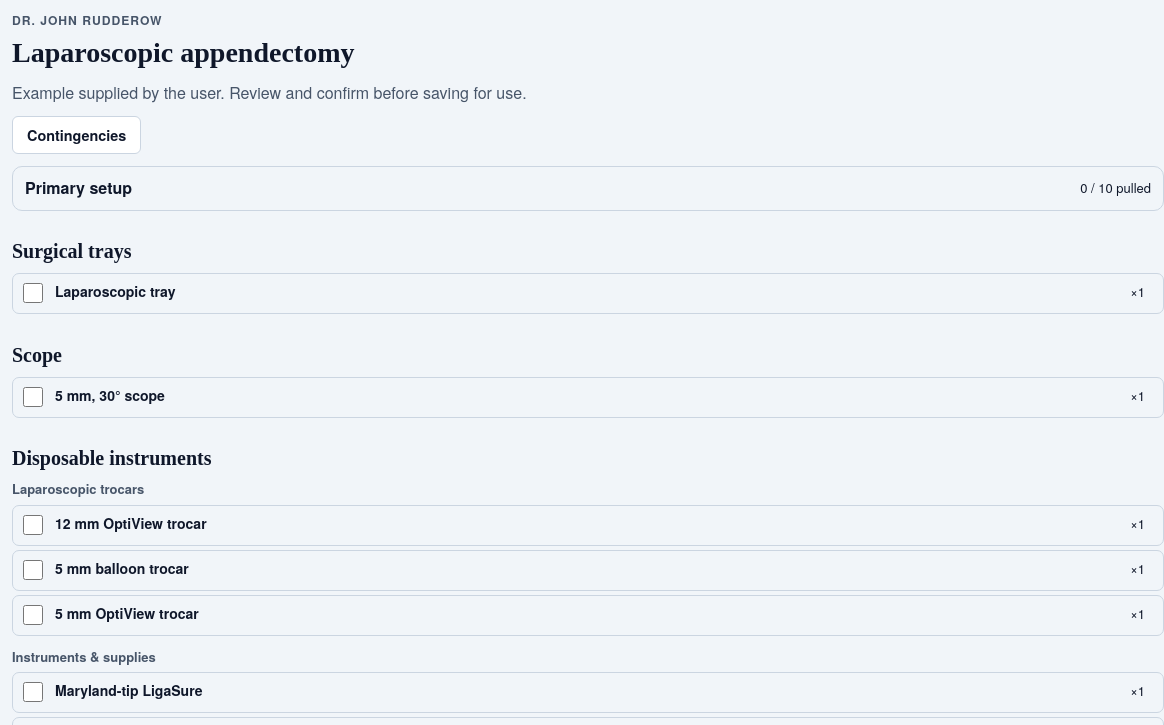
it: collapses the contingency list without deactivating selections and keeps removed rows in their original group
Step 1. Click the button with class "cp-contingency-toggle" → (77, 135), box [12,116,141,154]
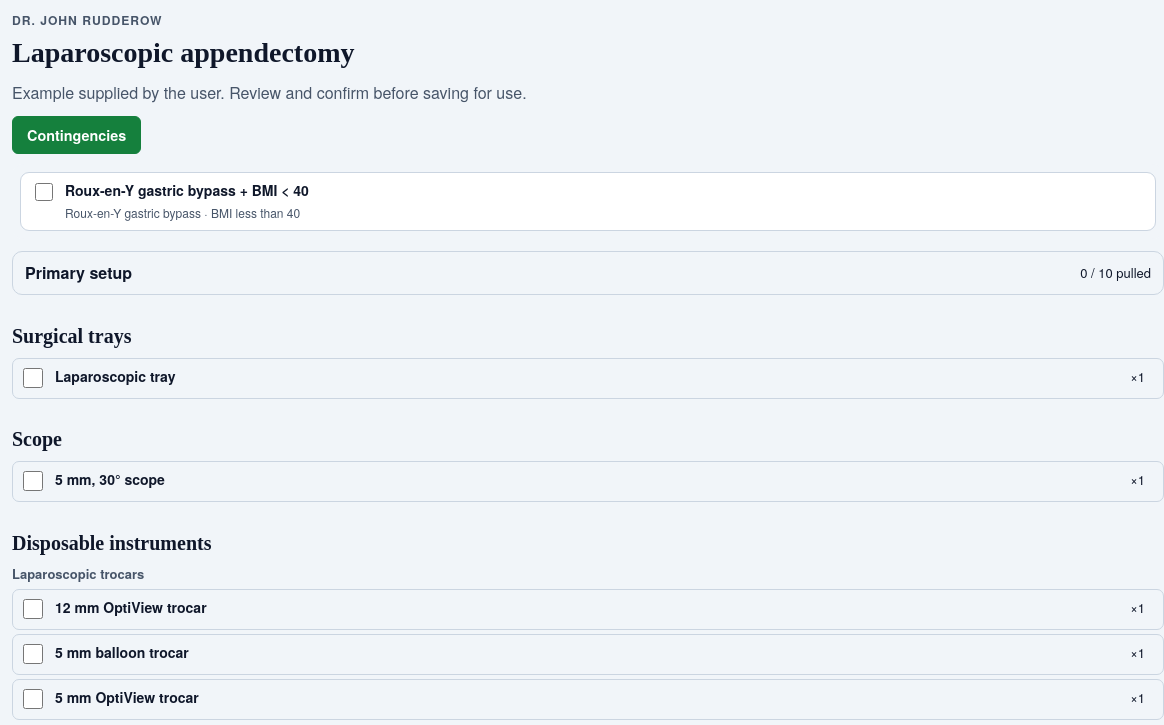
Expected: the button with class "cp-contingency-toggle" is pressed, [12,116,141,154]
Step 2. Click the 1st checkbox → (44, 192), box [35,183,53,201]
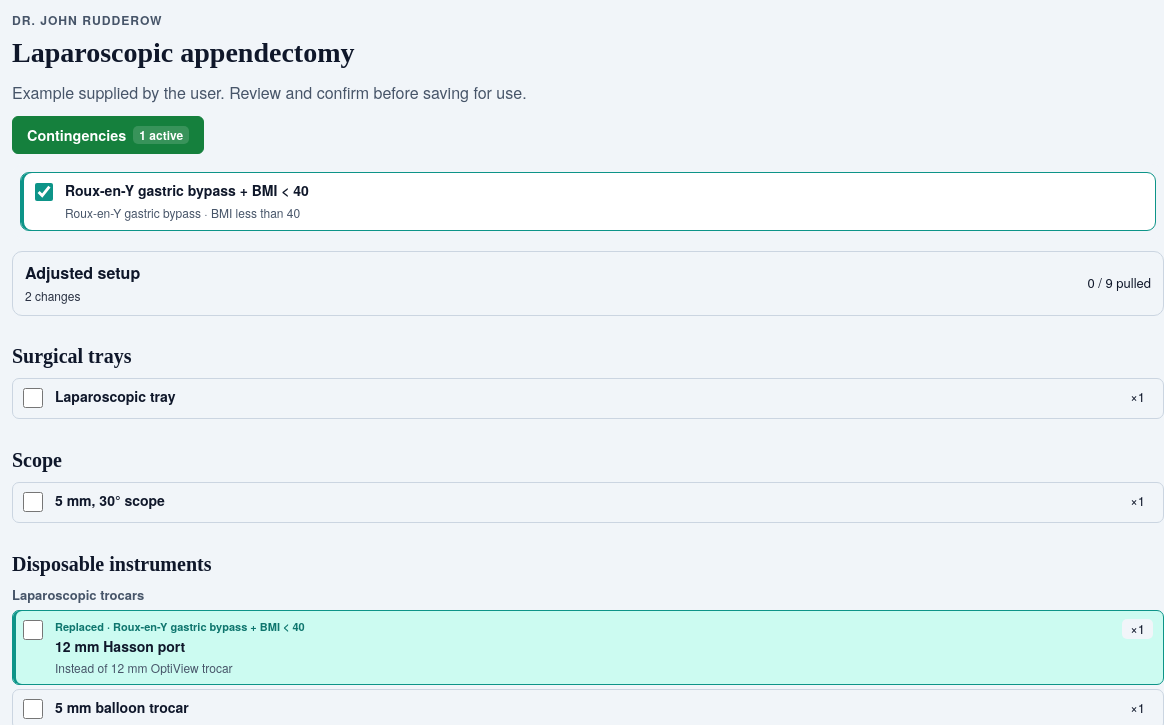
Step 3. Click the button with class "cp-contingency-toggle" → (108, 135), box [12,116,204,154]
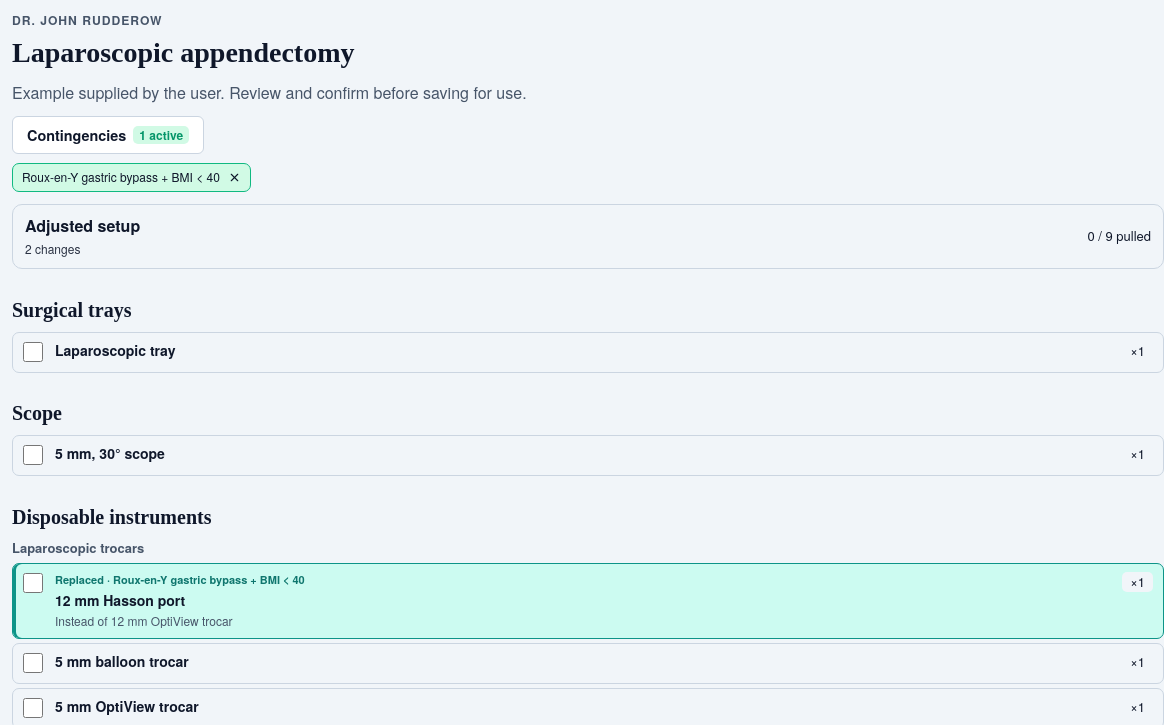
Expected: the button with class "cp-active-scenario" shows "Roux-en-Y", [12,163,251,192]
Expected: the element with class "cp-replaced" shows "Hasson", [55,590,185,610]
Expected: the label with class "cp-scenario" is gone
Step 4. Click the button with class "cp-contingency-toggle" → (108, 135), box [12,116,204,154]
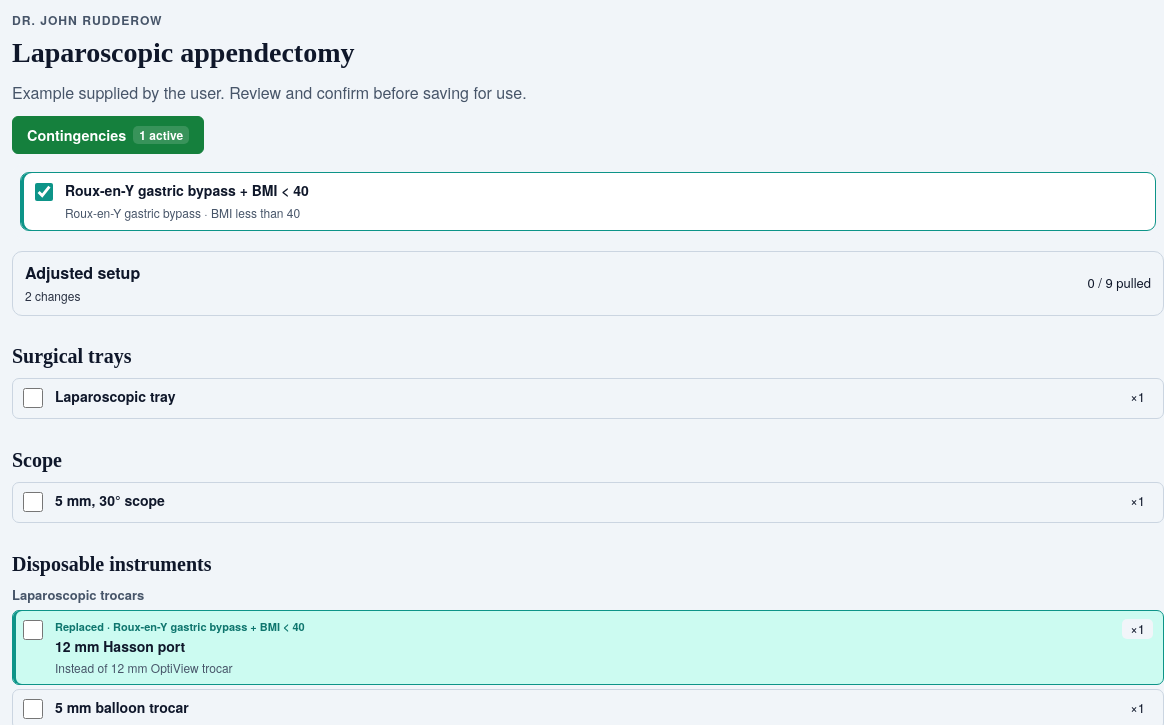
Expected: the 1st checkbox is checked, [35,183,53,201]
